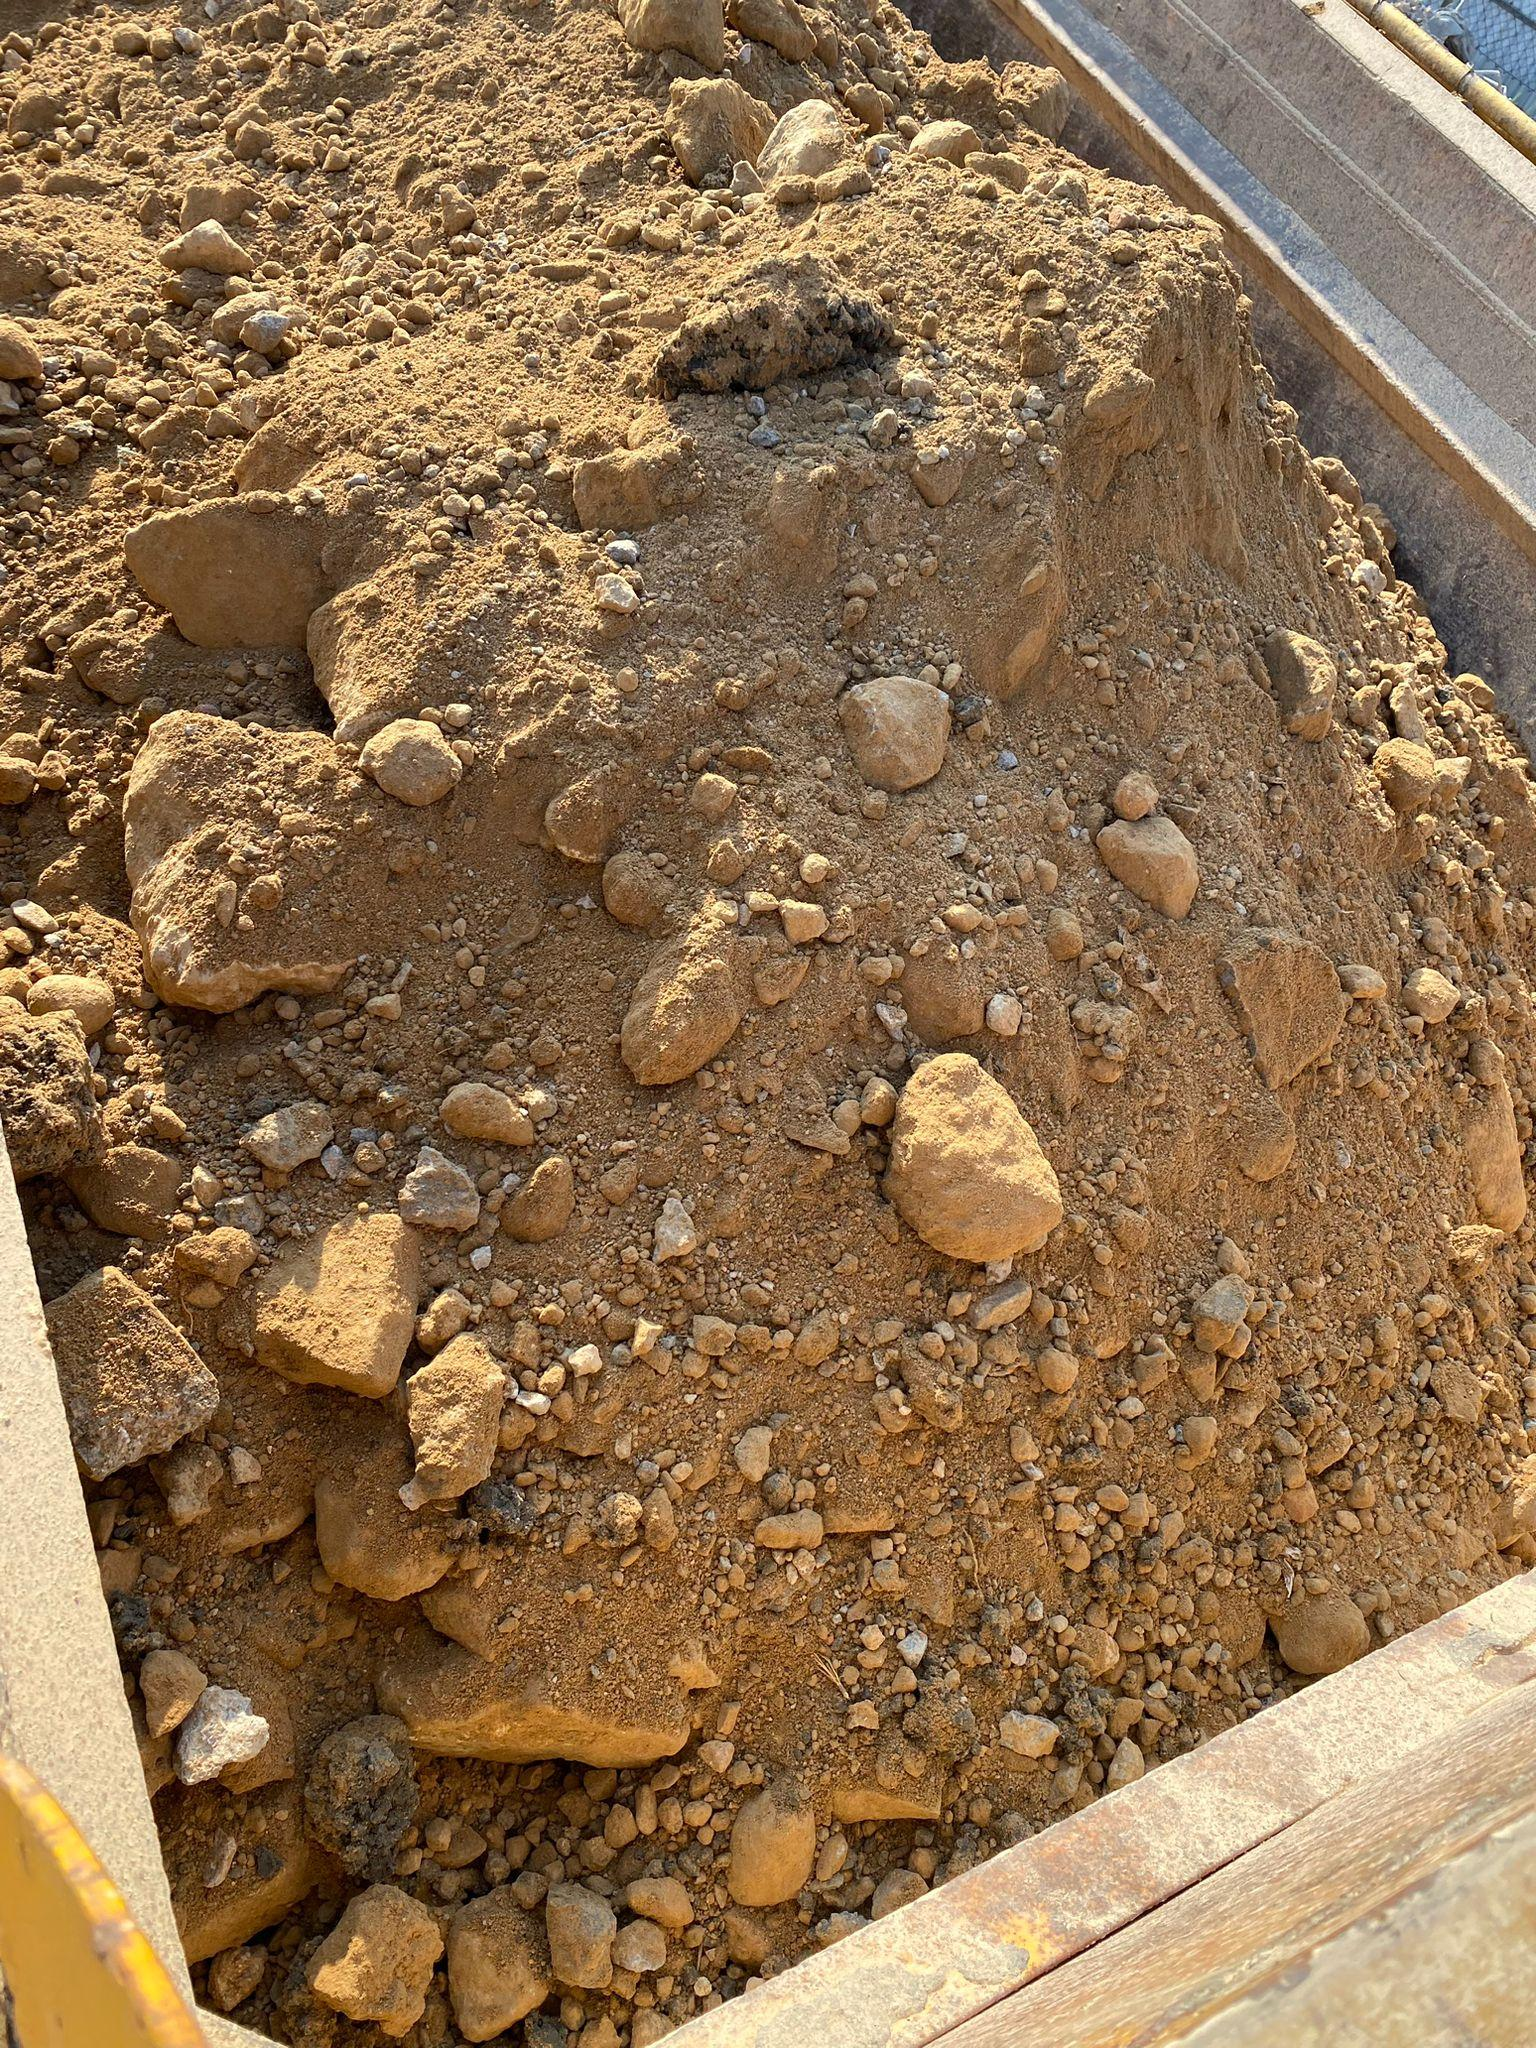dry: (10, 6, 1526, 2048)
